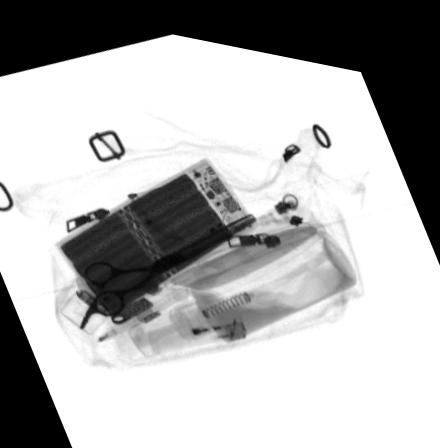Lighter: (151, 309, 254, 348)
Powerbank: (51, 145, 253, 313)
Scissors: (78, 201, 257, 325)
Sprayer: (59, 186, 191, 333)
